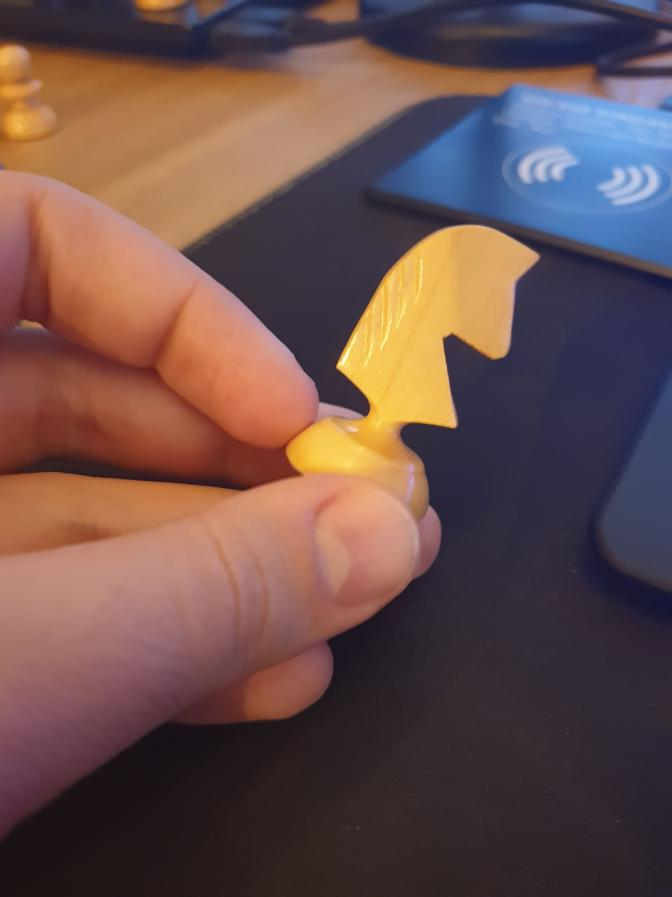wknight: (288, 221, 543, 520)
